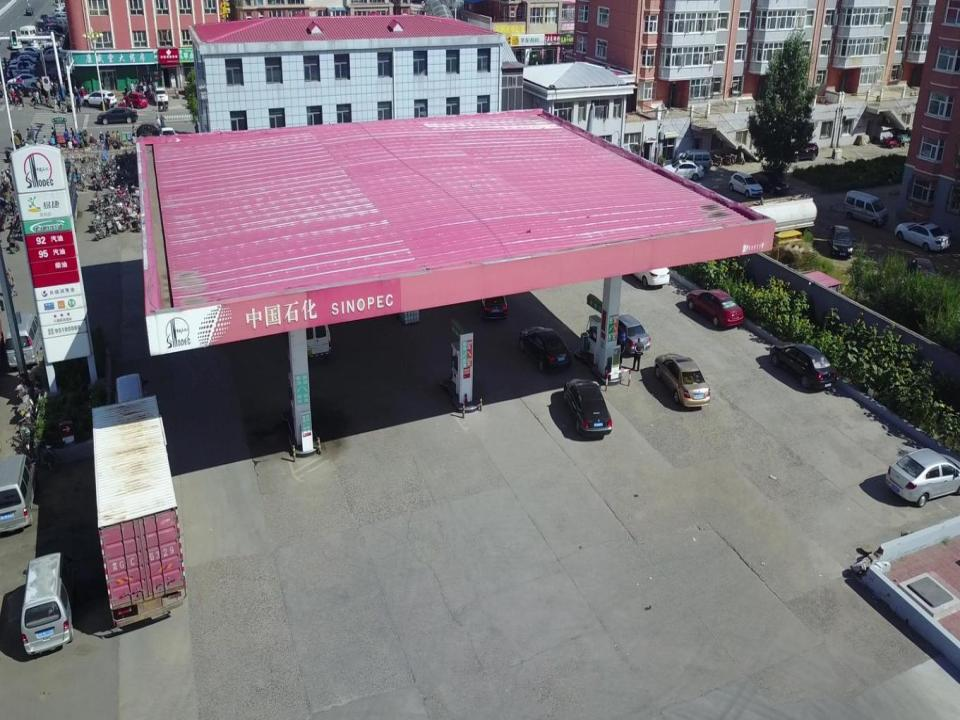car: (886, 447, 960, 507), (770, 342, 837, 390), (654, 353, 710, 407), (564, 376, 612, 435), (520, 325, 572, 370), (687, 288, 743, 326), (606, 314, 650, 355), (896, 220, 951, 252), (473, 272, 507, 319), (625, 251, 670, 285), (906, 257, 937, 295), (750, 169, 789, 197), (660, 159, 703, 183), (828, 225, 856, 259), (728, 172, 762, 197), (782, 140, 819, 162), (97, 108, 138, 124), (80, 89, 116, 106), (135, 122, 164, 140), (159, 126, 178, 148), (7, 83, 38, 96), (122, 93, 148, 108), (7, 76, 39, 88), (11, 55, 38, 66), (41, 48, 63, 61), (10, 61, 36, 72), (153, 86, 168, 105), (44, 22, 64, 34), (18, 69, 34, 83), (23, 46, 40, 59), (52, 19, 70, 31), (6, 64, 22, 75), (8, 38, 22, 50), (25, 6, 34, 15)
truck: (92, 391, 187, 626)
van: (20, 552, 73, 655), (286, 292, 330, 360), (0, 454, 36, 532), (2, 310, 45, 372), (111, 372, 147, 430), (844, 189, 888, 226), (678, 148, 710, 174), (19, 26, 40, 43)
